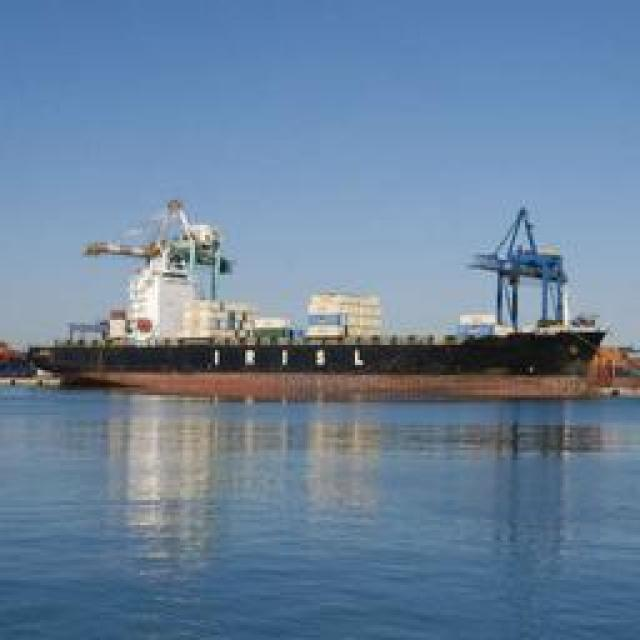CIV_Ship: (32, 191, 612, 394)
